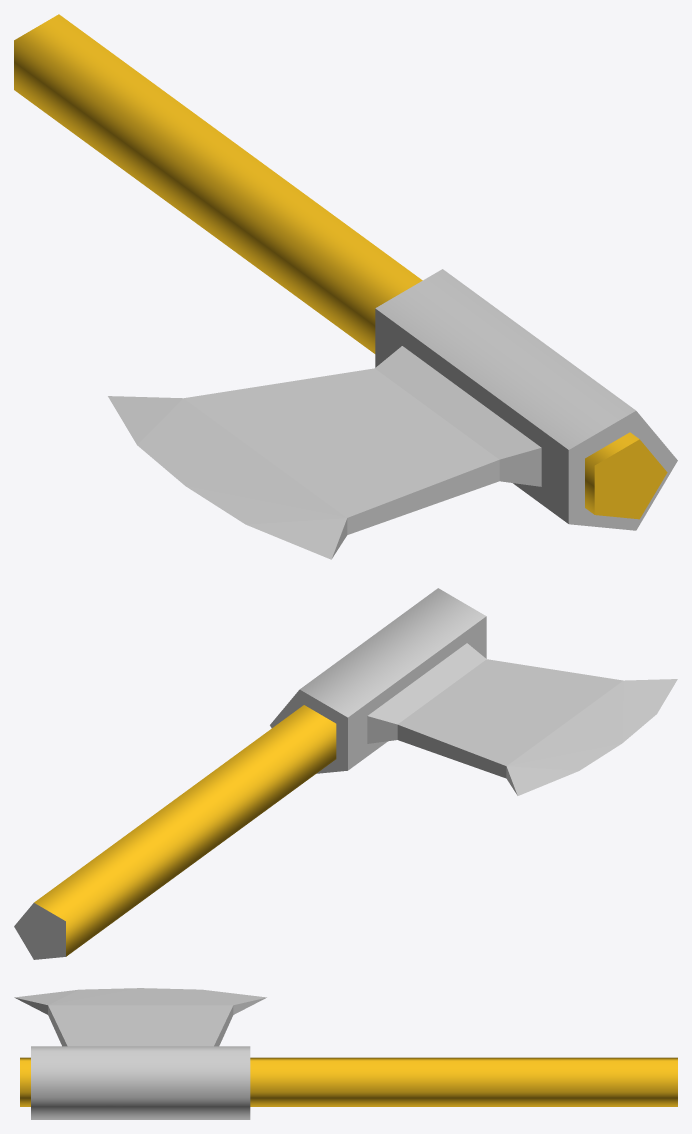
File: Axe.FBX
3 views of the same model, one above another, from view 1: azimuth 30°, elevation 25°; view 2: azimuth 150°, elevation 25°; view 3: azimuth 270°, elevation 25° (orthographic). The views are drawn at different scales.
Parts seen in each view (by area): view 1: weapon_Axe; view 2: weapon_Axe; view 3: weapon_Axe.
Boxes of the visible parts, x1,y1,x2,y2 form: weapon_Axe: (14, 14, 677, 559); weapon_Axe: (14, 588, 677, 959); weapon_Axe: (14, 988, 677, 1119).
Size of the model in its own units: 118 by 34.24 by 303.
